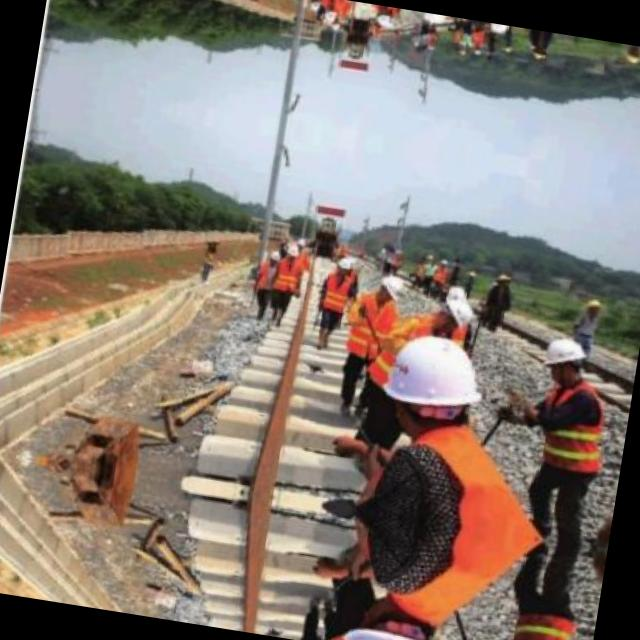helmet: (369, 326, 502, 445), (336, 593, 461, 640), (536, 330, 590, 388), (433, 292, 478, 332), (370, 270, 407, 308), (414, 11, 449, 28), (331, 254, 354, 278), (371, 5, 394, 29), (282, 243, 302, 266), (320, 0, 340, 22)
